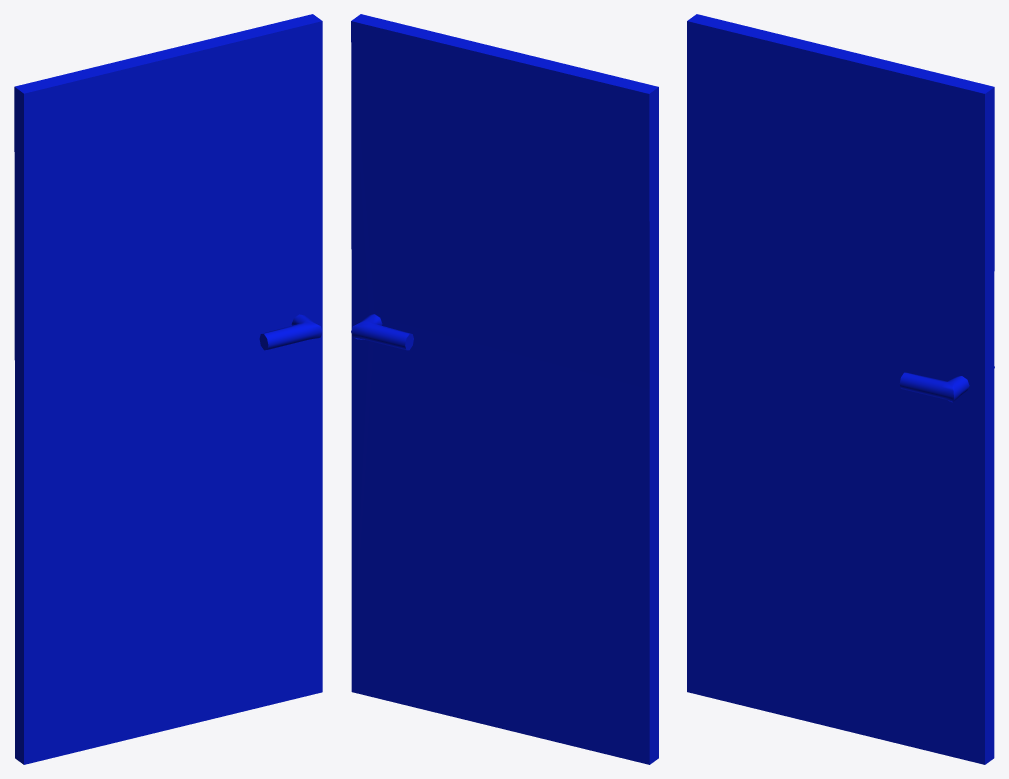
File: Deur Just deur.fbx
3 views of the same model, side by side, from view 1: azimuth 30°, elevation 25°; view 2: azimuth 150°, elevation 25°; view 3: azimuth 330°, elevation 25° (orthographic).
Parts seen in each view (by area): view 1: Deur(Mainmenu); view 2: Deur(Mainmenu); view 3: Deur(Mainmenu).
Boxes of the visible parts, x1,y1,x2,y2 form: Deur(Mainmenu): (14,14,322,764); Deur(Mainmenu): (351,14,658,764); Deur(Mainmenu): (687,14,994,764).
Bounding box in the file's own units: 92.98 × 200 × 22.21.
